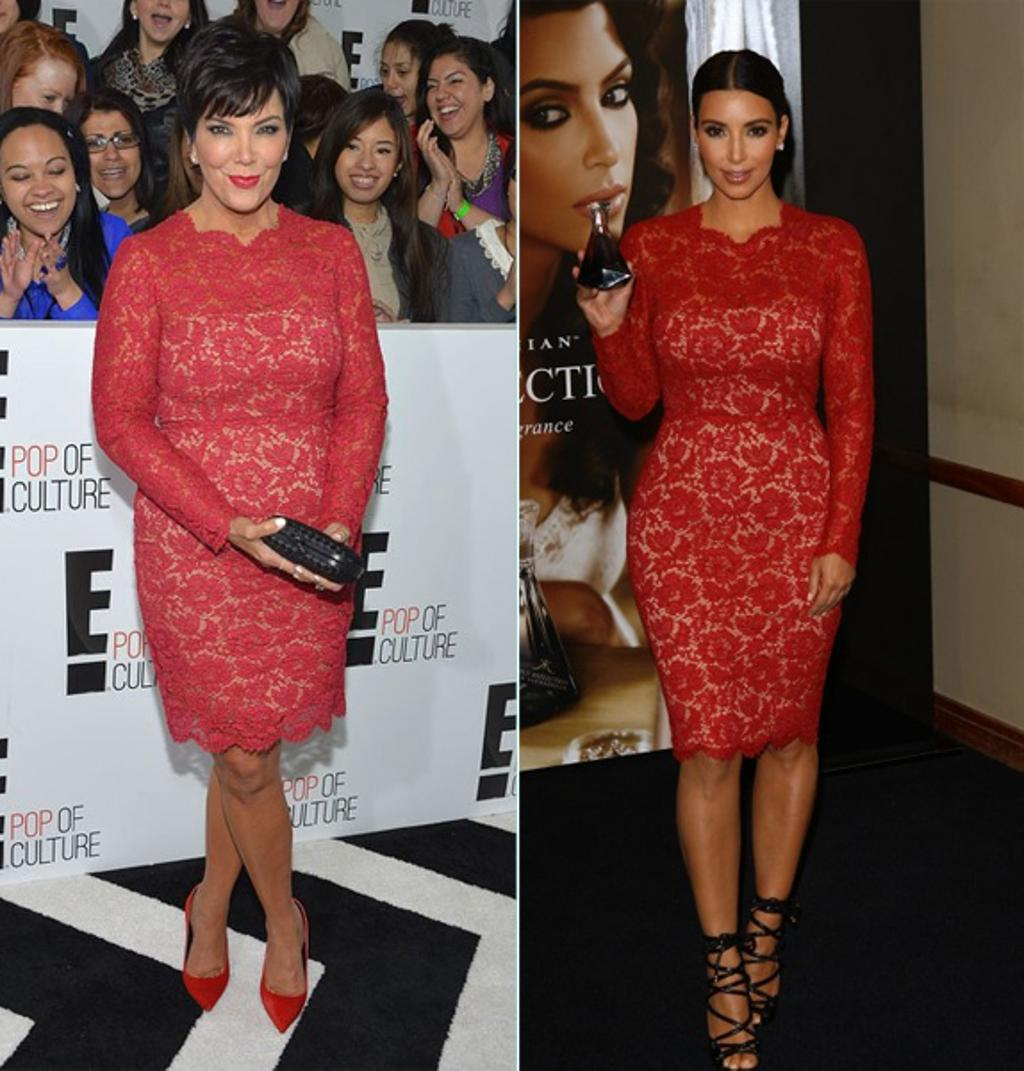face: (517, 23, 638, 250), (195, 100, 289, 210), (698, 98, 777, 199), (2, 138, 76, 235), (13, 71, 75, 152), (336, 121, 397, 201), (80, 121, 141, 197), (426, 64, 484, 135), (381, 49, 427, 116), (135, 1, 190, 41), (258, 1, 298, 27)
